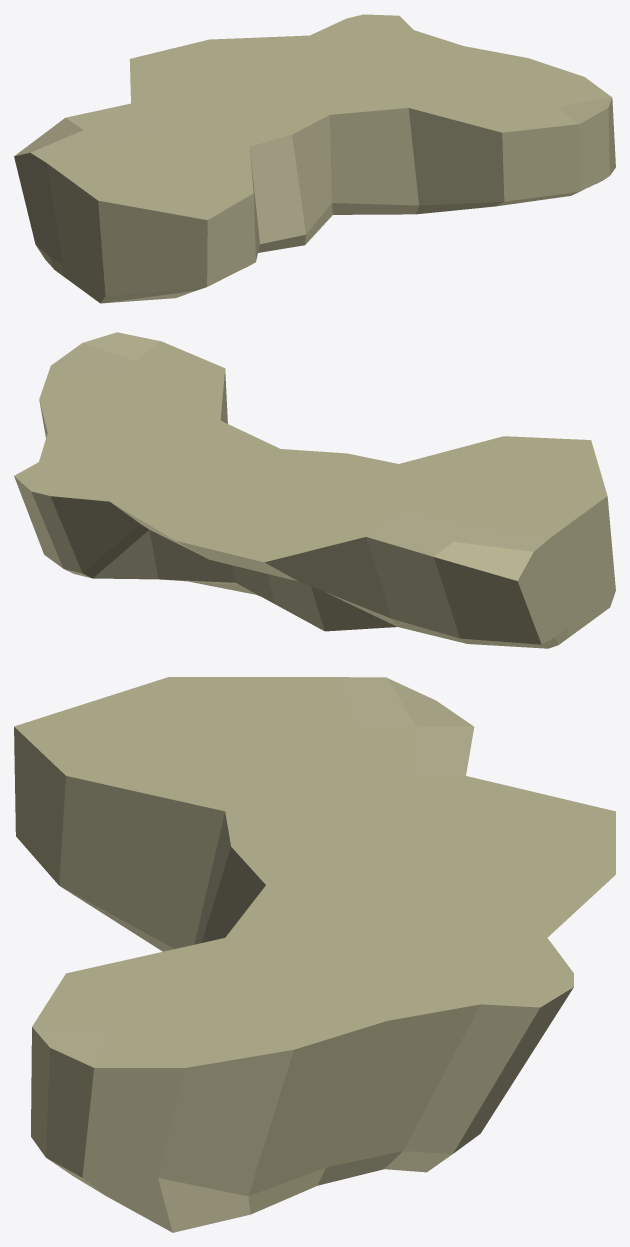
The model's file is island2.fbx.
The picture shows the model from 3 angles, top to bottom: view 1: azimuth 30°, elevation 25°; view 2: azimuth 150°, elevation 25°; view 3: azimuth 270°, elevation 25°; orthographic projection. The views are drawn at different scales.
Parts seen in each view (by area): view 1: pPlane1; view 2: pPlane1; view 3: pPlane1.
Boxes of the visible parts, x1,y1,x2,y2 form: pPlane1: [14, 14, 615, 303]; pPlane1: [14, 332, 615, 648]; pPlane1: [14, 677, 615, 1232].
Bounding box in the file's own units: 46.72 × 10.46 × 30.28.
